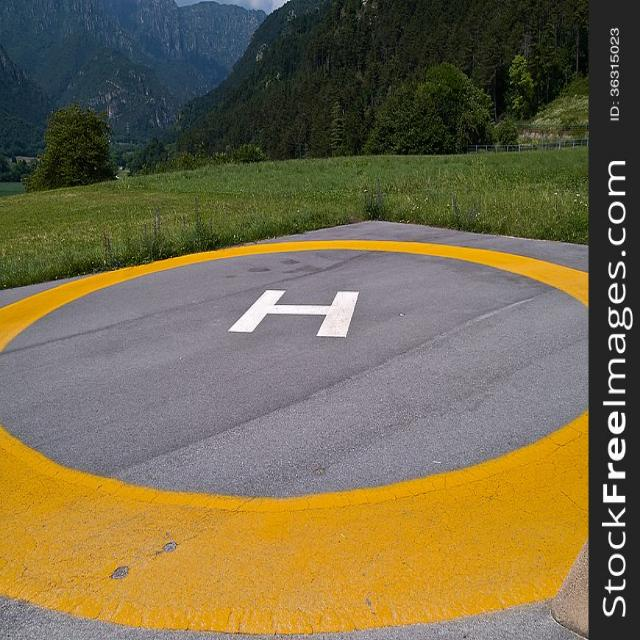helipad: (0, 228, 586, 638)
